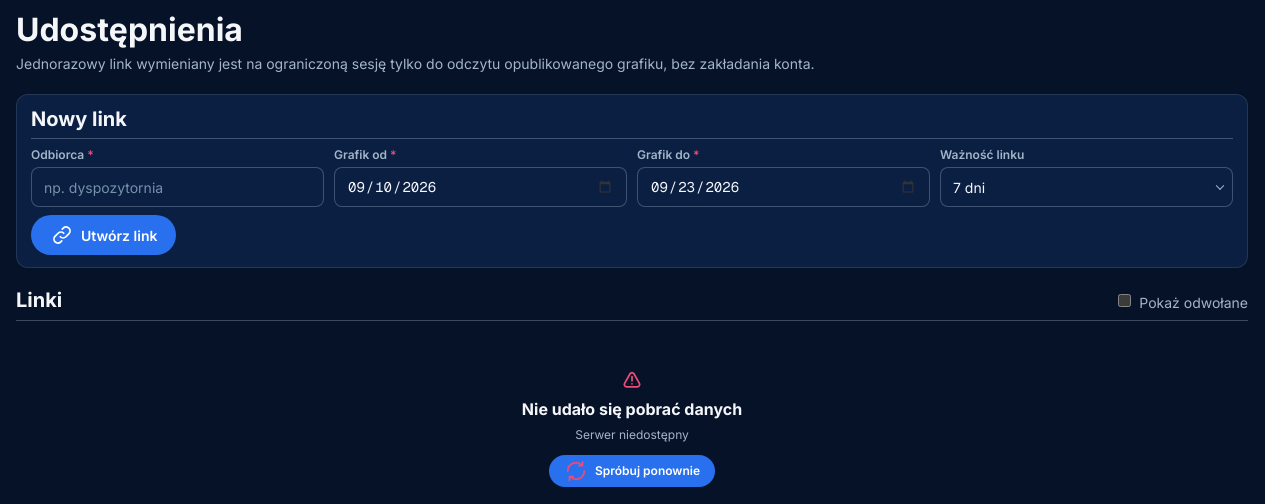
Test: ShareLinksPanel list › offers a retry when the list fails to load
This screenshot has width=1265, height=504.
Expected: the text "Serwer niedostępny" is shown, [575, 427, 689, 443]
Click the button "Spróbuj ponownie". click: {"x": 632, "y": 471}
box: [549, 455, 715, 487]
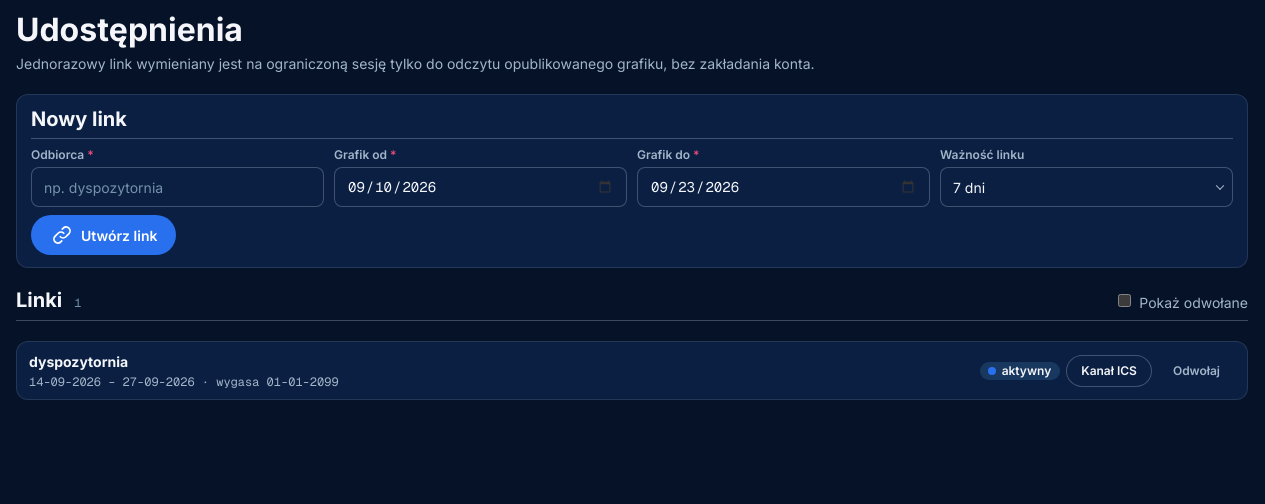
Expected: the text "dyspozytornia" is shown, [29, 353, 128, 370]
